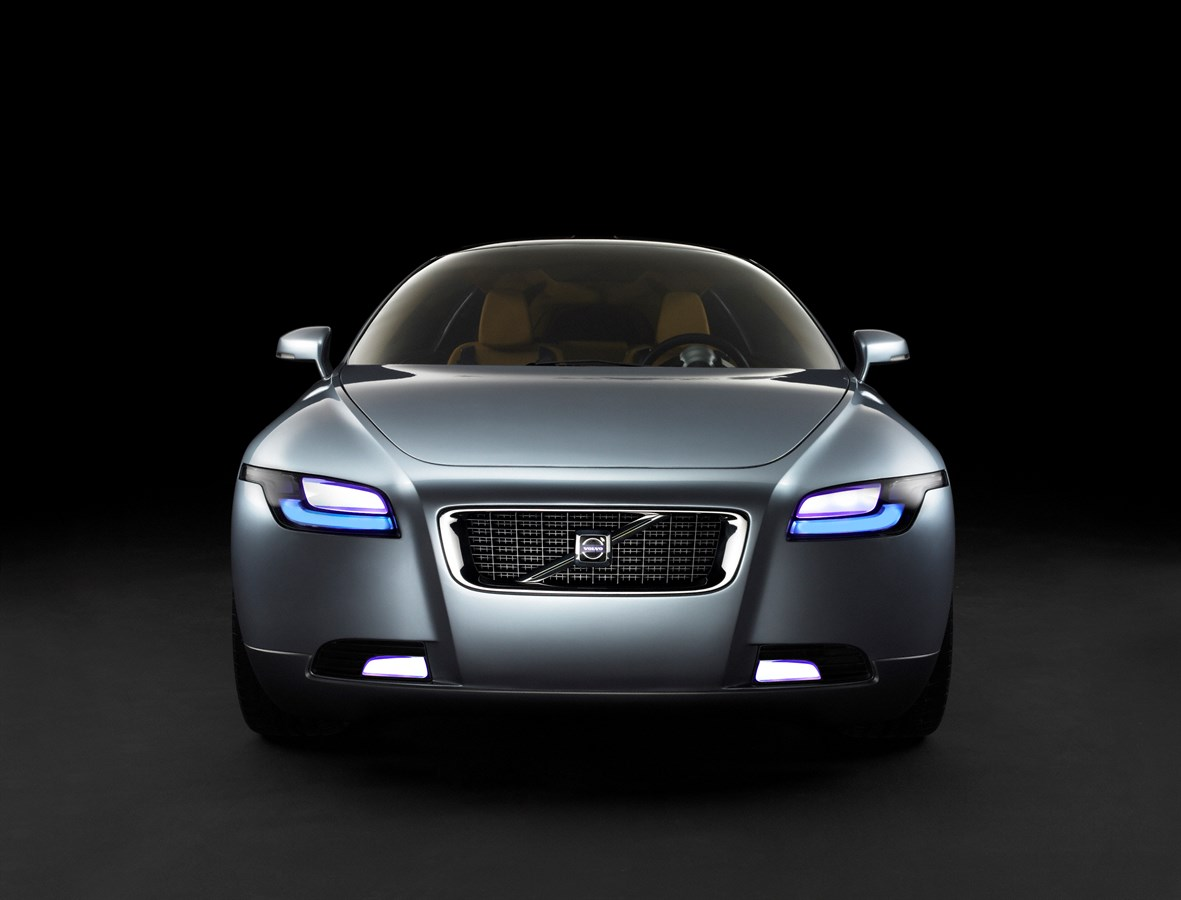other: (233, 227, 955, 766)
